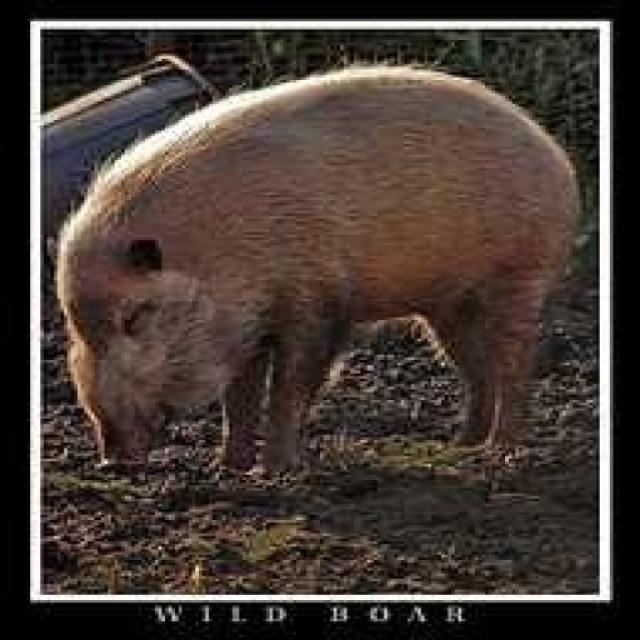pig: (53, 84, 622, 509)
